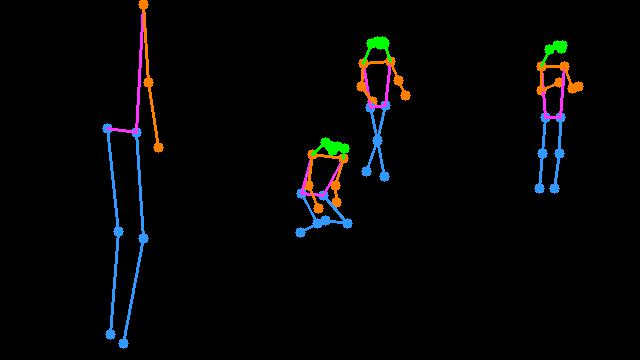normal: (526, 28, 592, 204), (348, 29, 414, 189)
